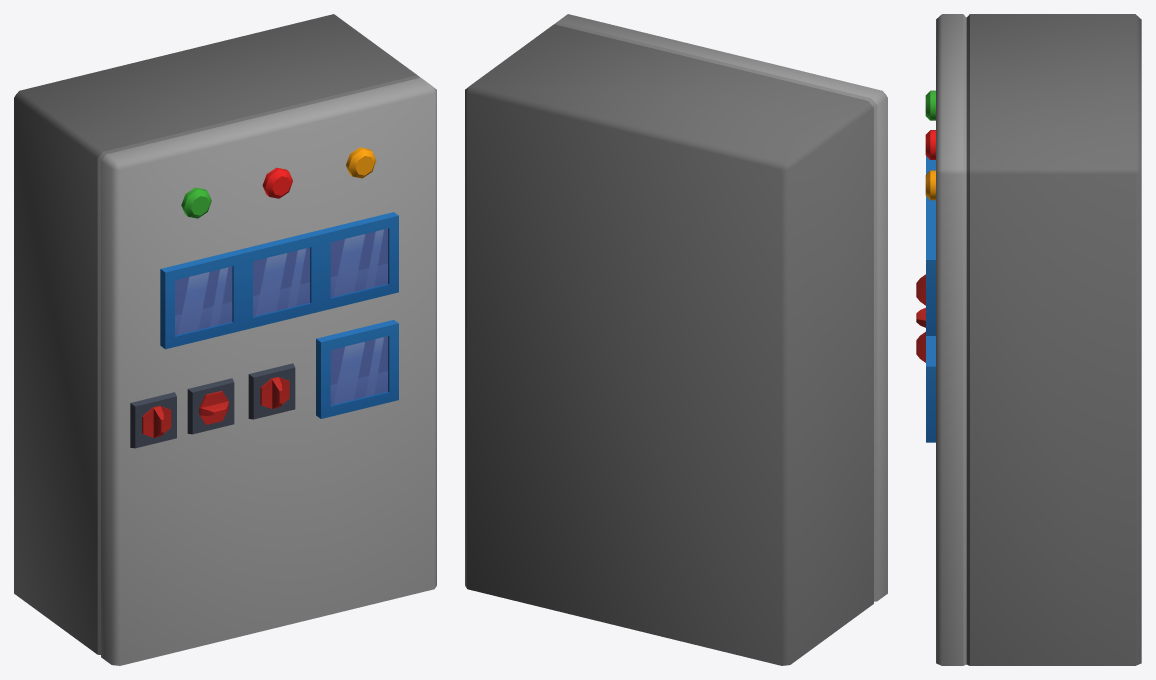
Rendered from ElectricBox_3_A_1.fbx.
The picture shows the model from 3 angles, left to right: view 1: azimuth 30°, elevation 25°; view 2: azimuth 150°, elevation 25°; view 3: azimuth 270°, elevation 25°; orthographic projection.
Parts seen in each view (by area): view 1: ElectricBox_3_A_1; view 2: ElectricBox_3_A_1; view 3: ElectricBox_3_A_1.
Boxes of the visible parts, <box> form: ElectricBox_3_A_1: <box>14,14,436,665</box>; ElectricBox_3_A_1: <box>465,14,887,665</box>; ElectricBox_3_A_1: <box>916,14,1141,665</box>.
Size of the model in its own units: 102 by 150 by 61.6.
